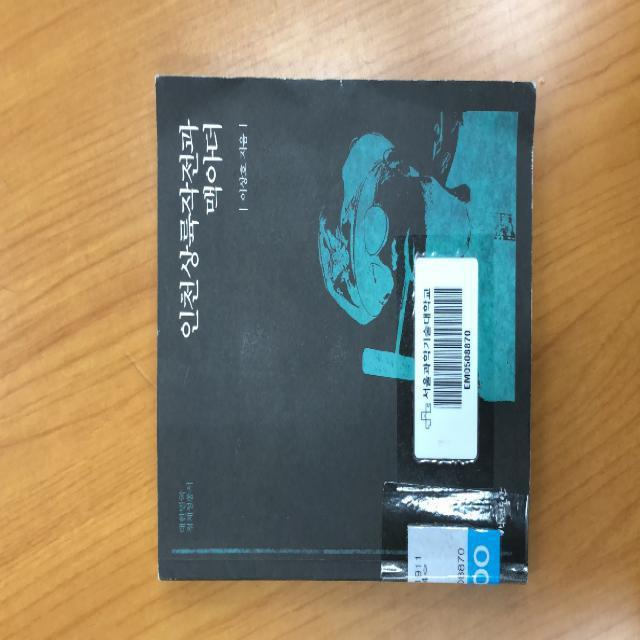Wornout: (150, 66, 185, 104), (154, 489, 166, 586), (528, 130, 540, 212), (408, 74, 459, 89), (279, 72, 302, 89), (222, 68, 239, 85), (528, 77, 540, 101), (152, 322, 164, 344), (167, 571, 179, 587), (509, 74, 518, 91), (338, 76, 347, 93)
